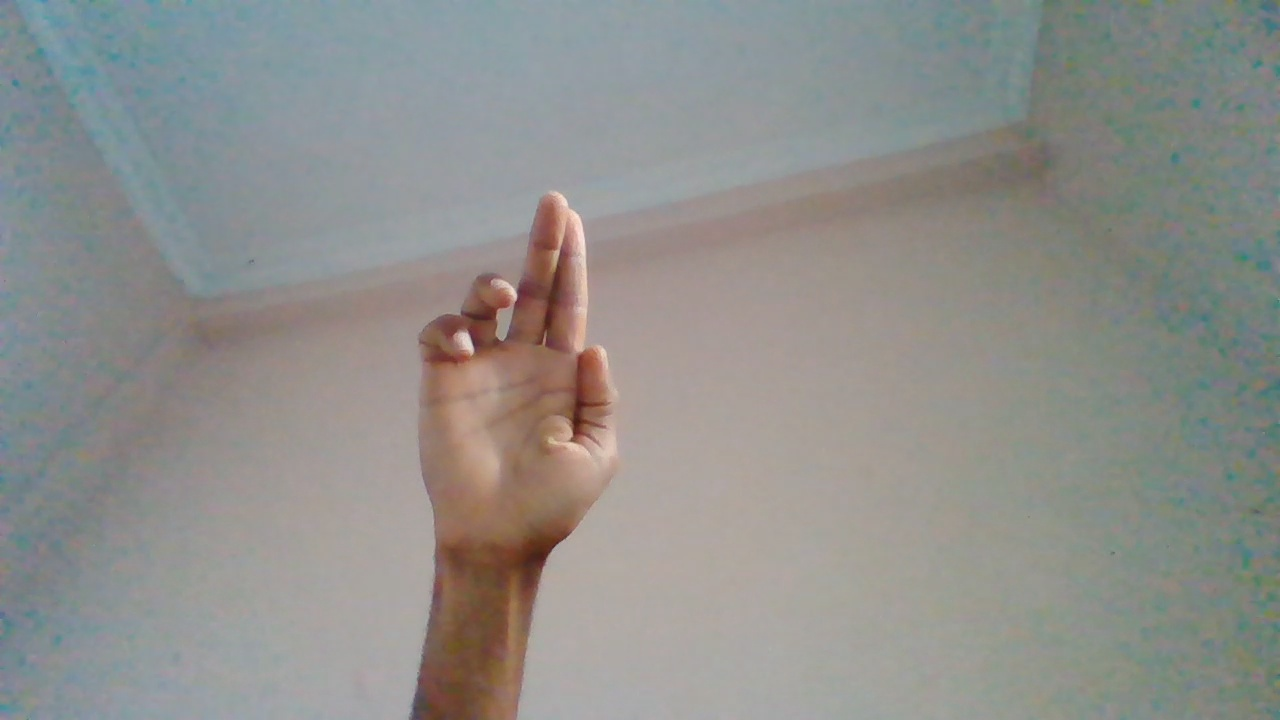gne: (416, 192, 624, 625)
